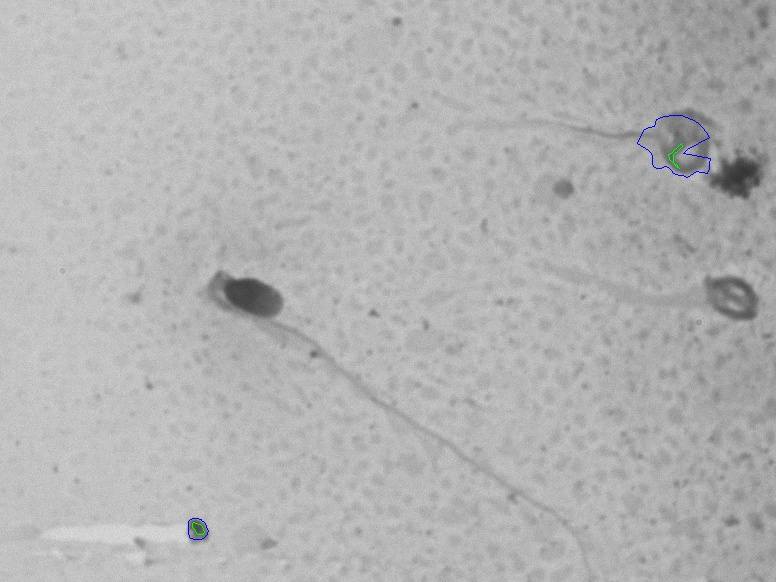Abnormal: (193, 237, 535, 529)
